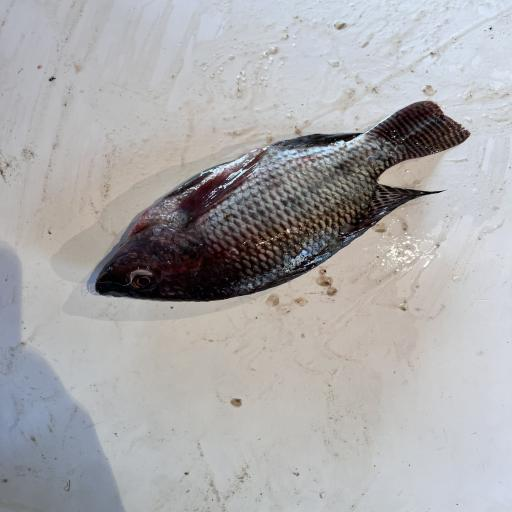Tilapia: (95, 100, 471, 302)
